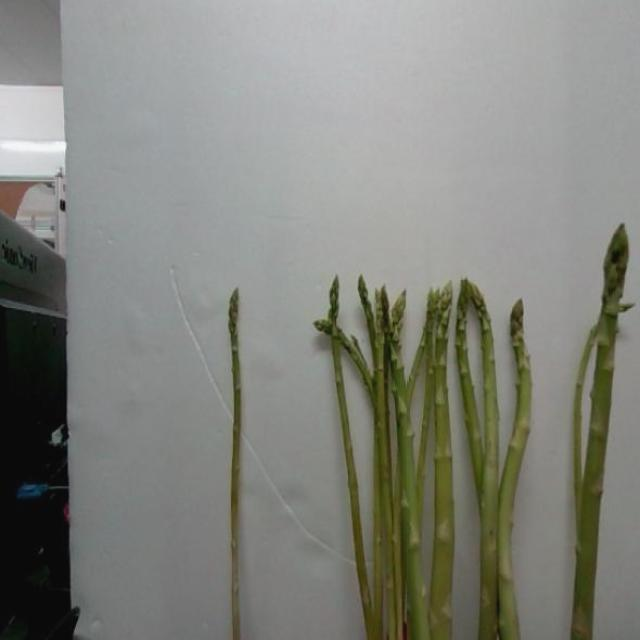aspargus: (567, 220, 632, 639), (225, 286, 247, 640)
